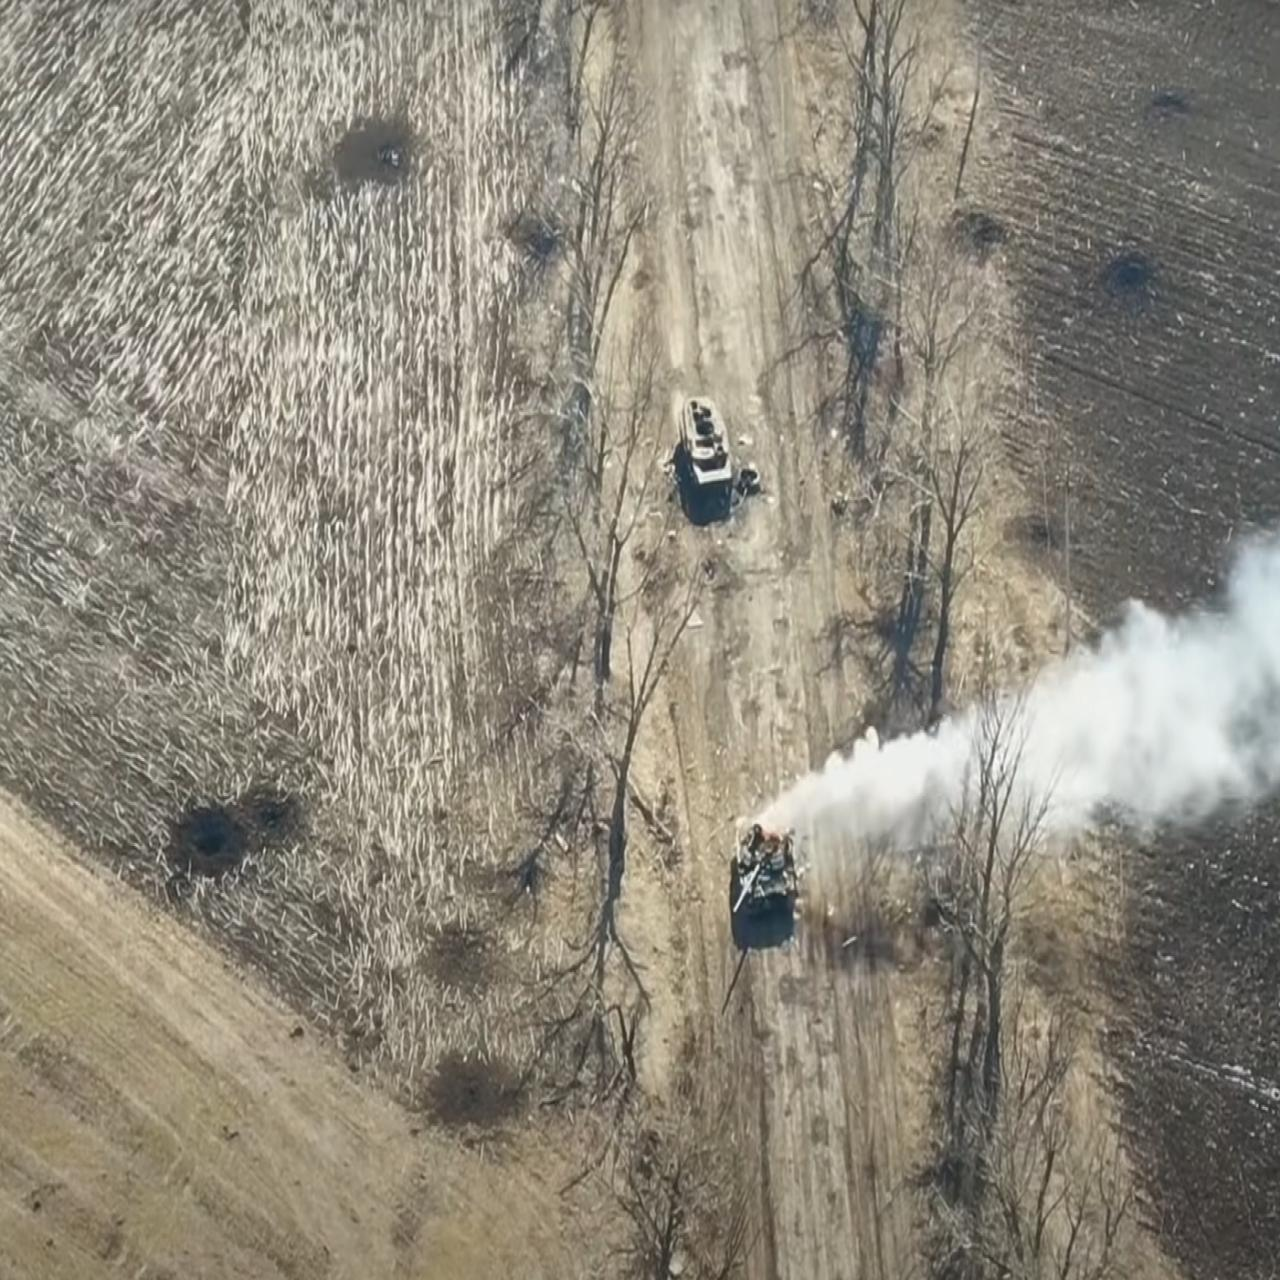MIL_Veh: (713, 805, 809, 931)
